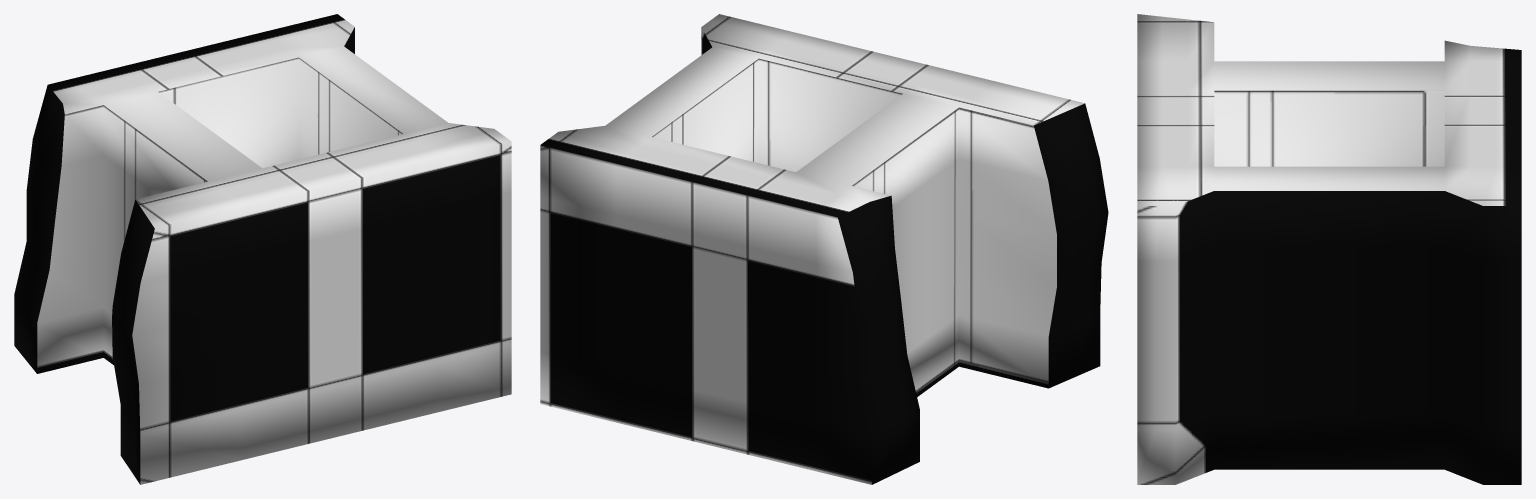
Rendered from cementBlock_2Half.fbx.
3 views of the same model, side by side, from view 1: azimuth 30°, elevation 25°; view 2: azimuth 150°, elevation 25°; view 3: azimuth 270°, elevation 25° (orthographic). The views are drawn at different scales.
Parts seen in each view (by area): view 1: CementBlockHalf; view 2: CementBlockHalf; view 3: CementBlockHalf.
Boxes of the visible parts, left/top/right/bottom form: CementBlockHalf: left=14, top=14, right=511, bottom=484; CementBlockHalf: left=540, top=14, right=1108, bottom=484; CementBlockHalf: left=1137, top=14, right=1521, bottom=484.
Bounding box in the file's own units: 0.3211 × 0.2032 × 0.254.
